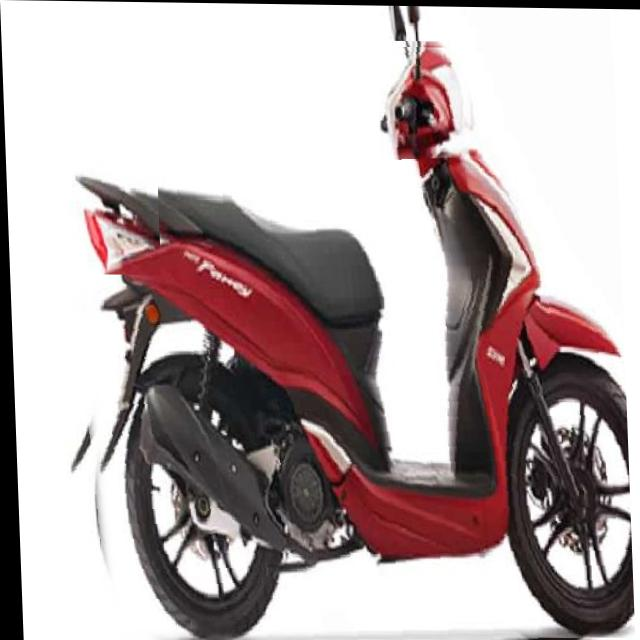All: (48, 36, 630, 640)
Head: (376, 45, 477, 160)
Tail: (66, 166, 159, 275)
